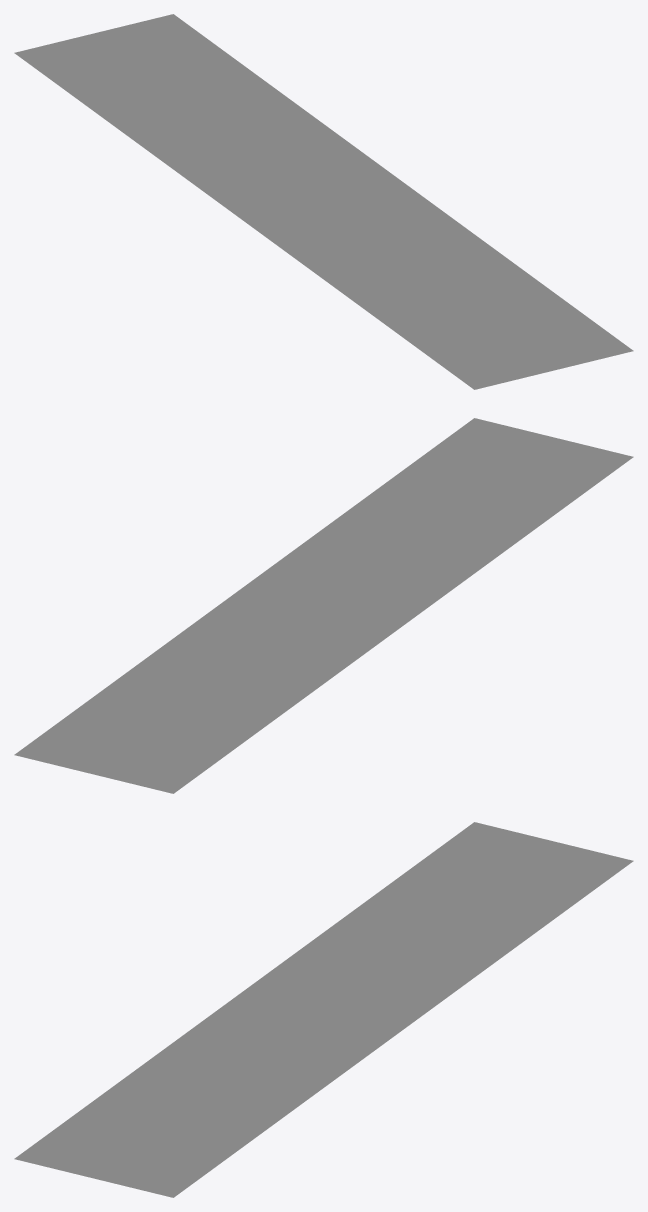
Rendered from cp_floor_tile_80x400.fbx.
The picture shows the model from 3 angles, top to bottom: view 1: azimuth 30°, elevation 25°; view 2: azimuth 150°, elevation 25°; view 3: azimuth 330°, elevation 25°; orthographic projection.
Parts seen in each view (by area): view 1: floor_tile_80x400; view 2: floor_tile_80x400; view 3: floor_tile_80x400.
Boxes of the visible parts, left/top/right/bottom form: floor_tile_80x400: left=14, top=14, right=633, bottom=389; floor_tile_80x400: left=14, top=418, right=633, bottom=793; floor_tile_80x400: left=14, top=822, right=633, bottom=1197.
Bounding box in the file's own units: 80 × 2.22e-14 × 400.
Materials: 1 (1 with a texture image).
